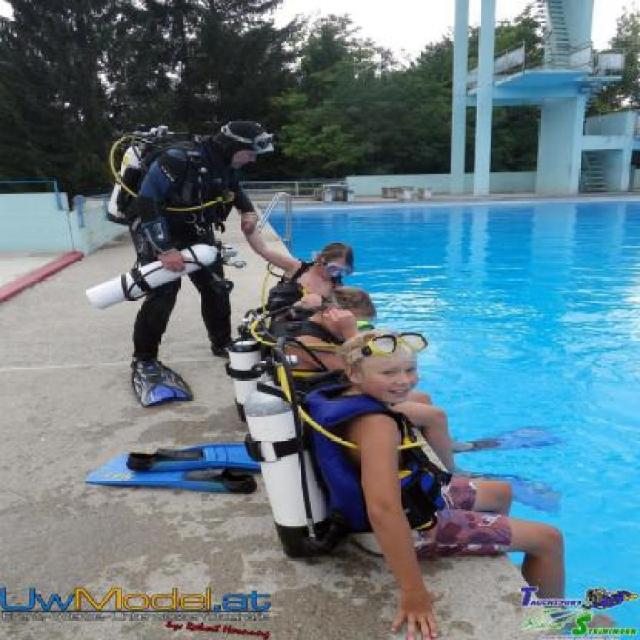obstacle: (308, 324, 570, 638), (111, 110, 263, 401), (276, 277, 426, 401), (246, 220, 345, 351)
